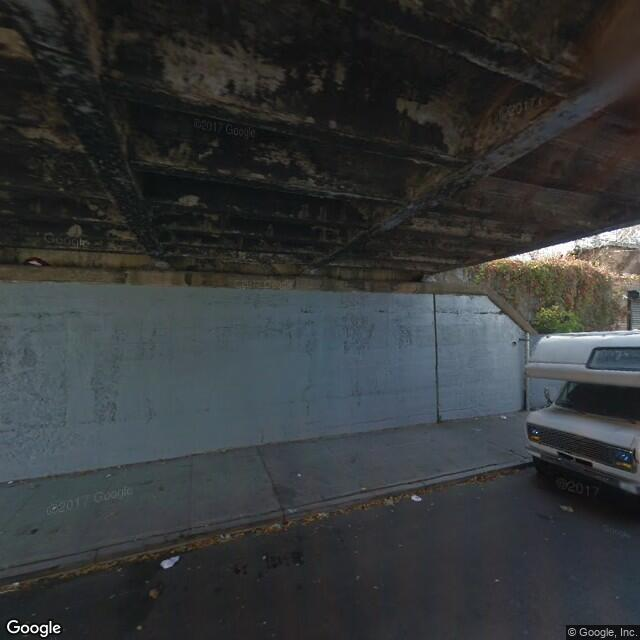litter: (403, 488, 426, 506), (153, 549, 175, 564), (556, 498, 573, 511)
